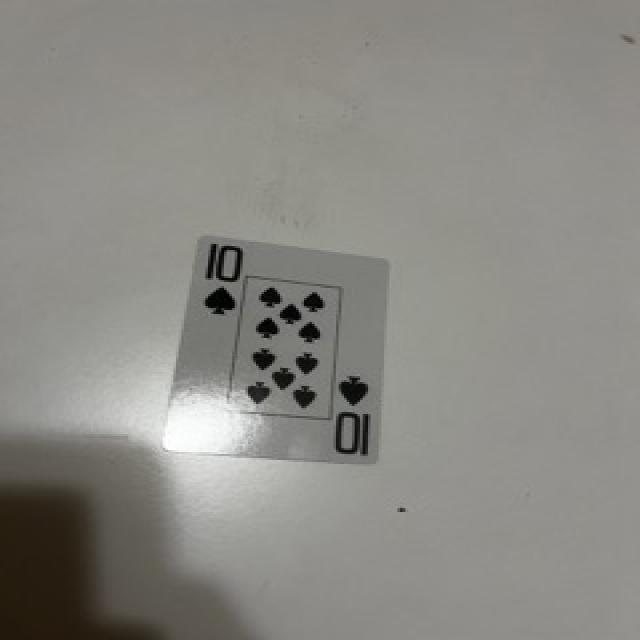10 of spades: (163, 233, 386, 465)
